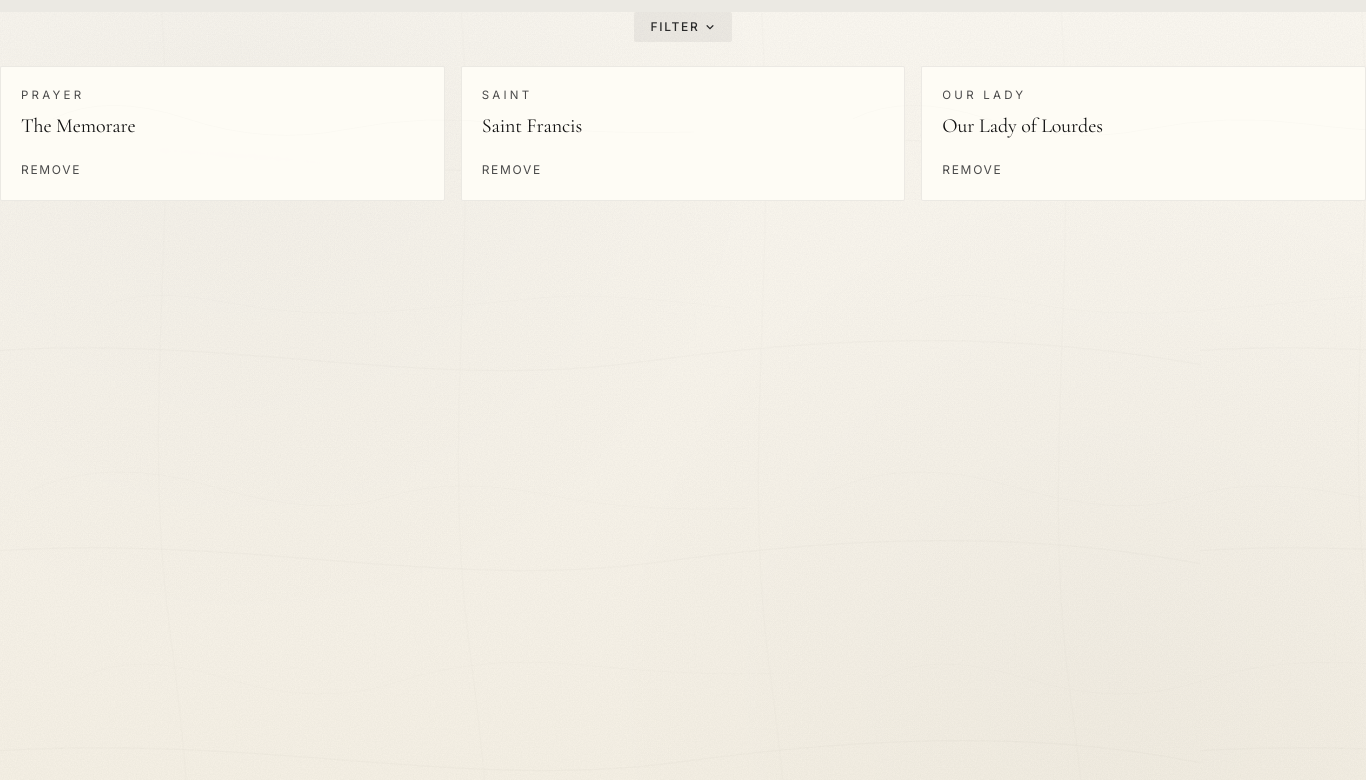
FavoritesBrowser › shows all favorites by default with per-type counts
The width and height of the screenshot is (1366, 780).
Check: the heading "The Memorare" is shown, box 21,114 -> 136,138
Check: the heading "Saint Francis" is shown, box 482,114 -> 582,138
// Inside the dropdown, "All" is selected and counts everything.
Click the button with aria-label "Filter favorites by type" at (683, 27), box 634,12 -> 732,42
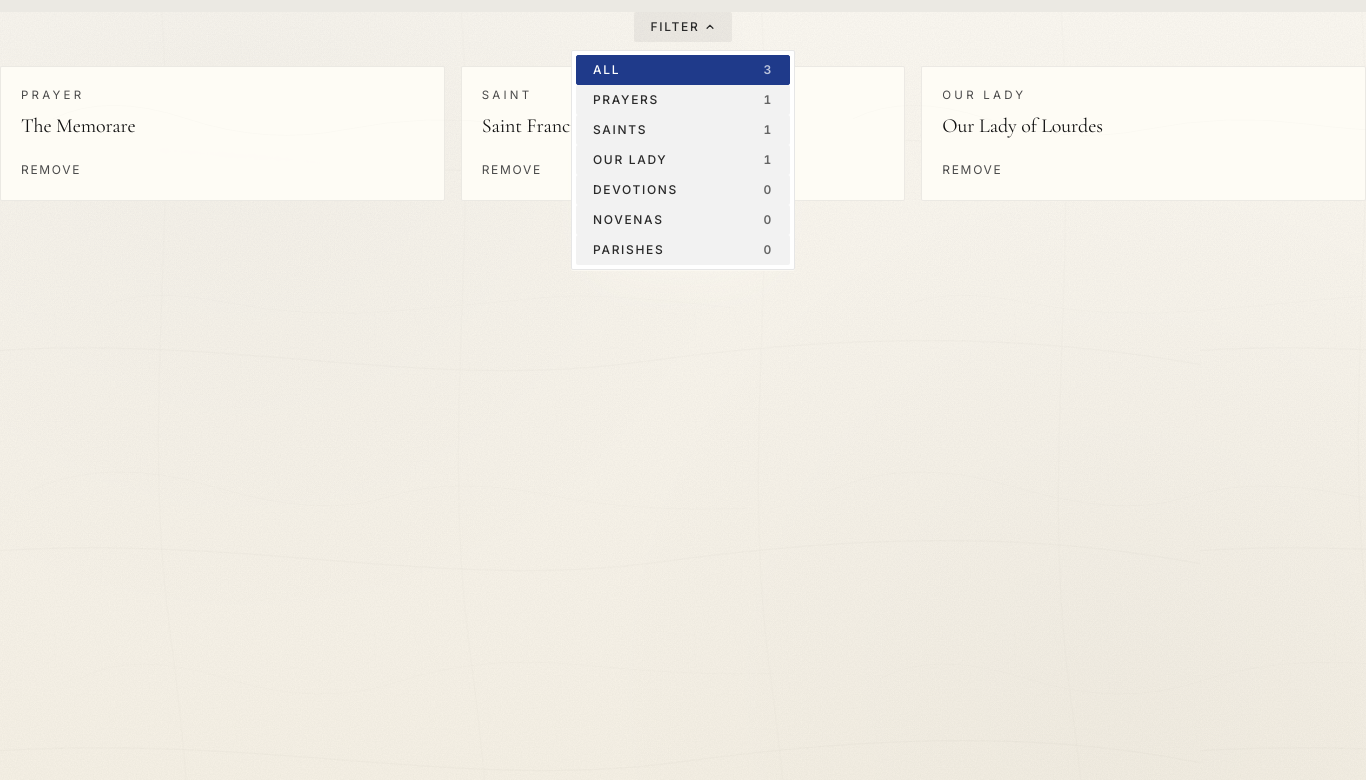
Check: the option "All 3" is shown, box 576,55 -> 790,85
